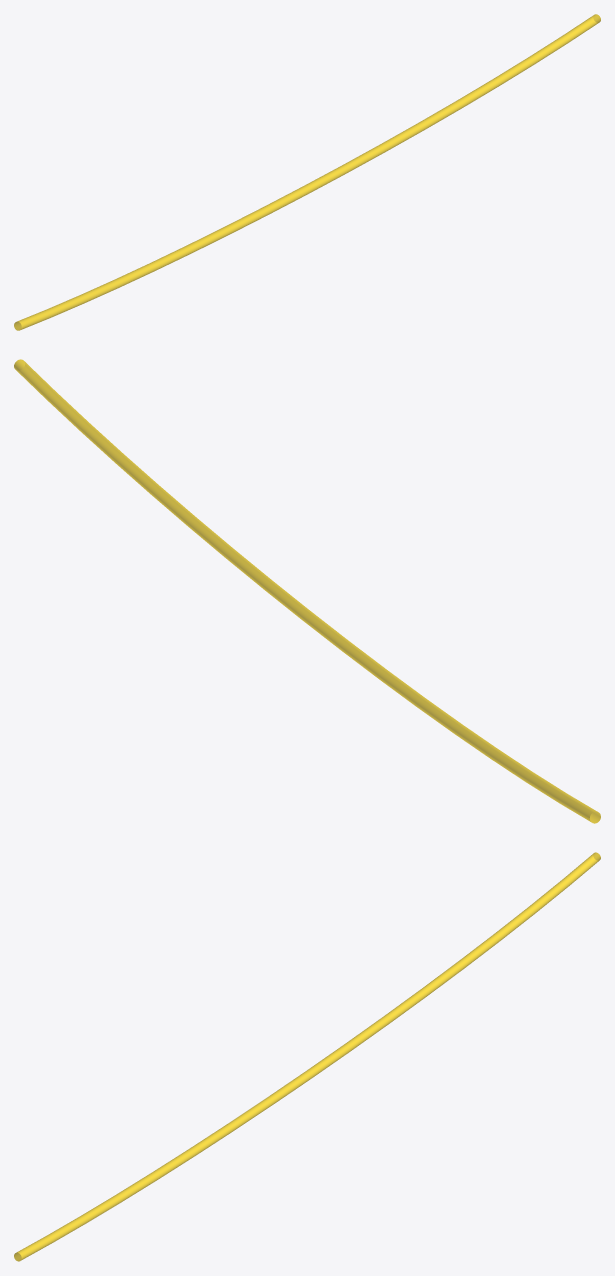
File: Event_17758602_track_140.fbx
3 views of the same model, one above another, from view 1: azimuth 90°, elevation 25°; view 2: azimuth 150°, elevation 25°; view 3: azimuth 270°, elevation 25° (orthographic). The views are drawn at different scales.
Visible parts, largest first — view 1: Model; view 2: Model; view 3: Model.
Part boxes in pixels (x1,y1,x2,y2): Model: (14, 14, 600, 330); Model: (14, 359, 600, 823); Model: (14, 852, 600, 1261).
Size of the model in its own units: 3.58 by 0.2701 by 2.49.
